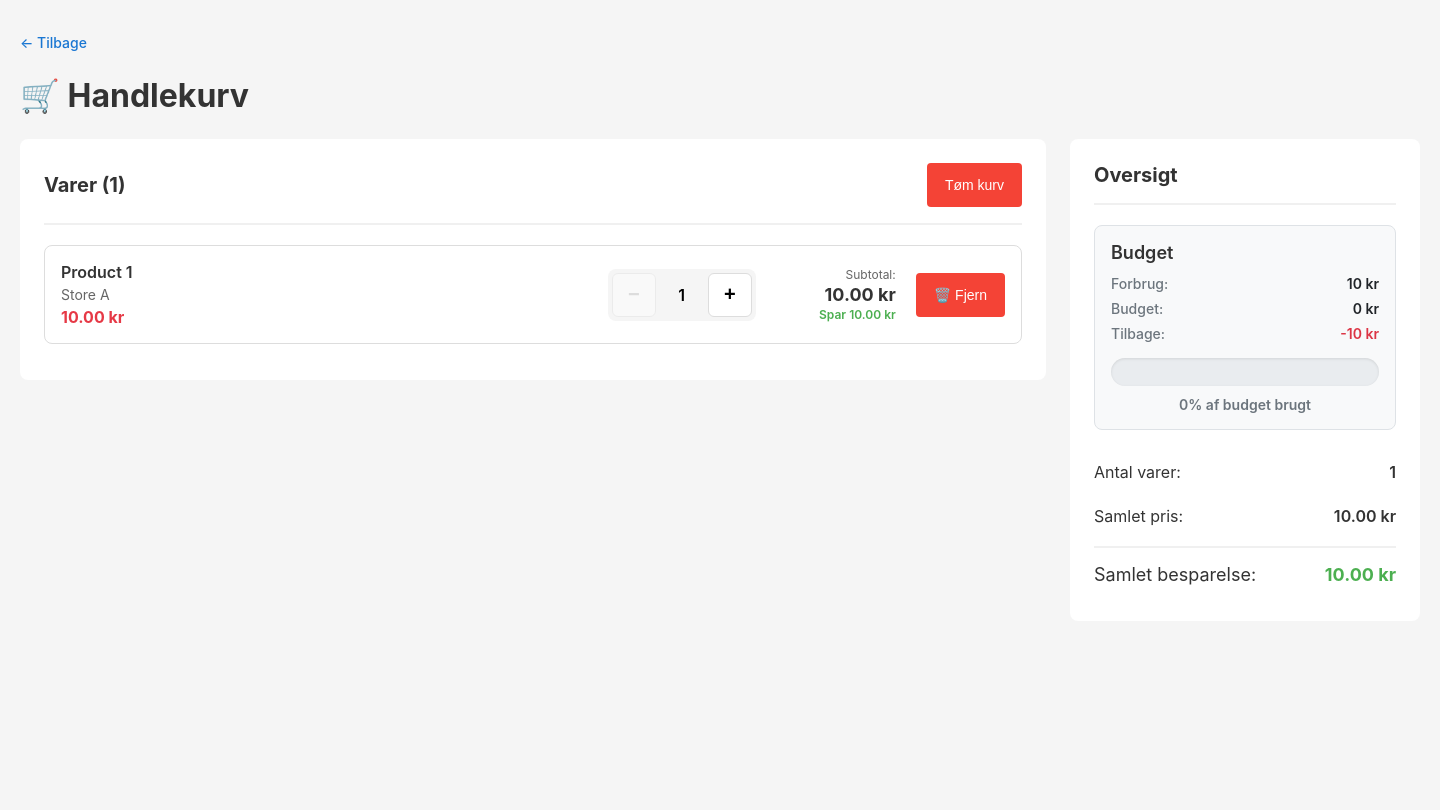
Scenario: Handlekurv › closes dialog when "Annuller" clicked
The image size is (1440, 810).
Click the button "Tøm kurv".
click(974, 185)  # box [927,163,1022,207]
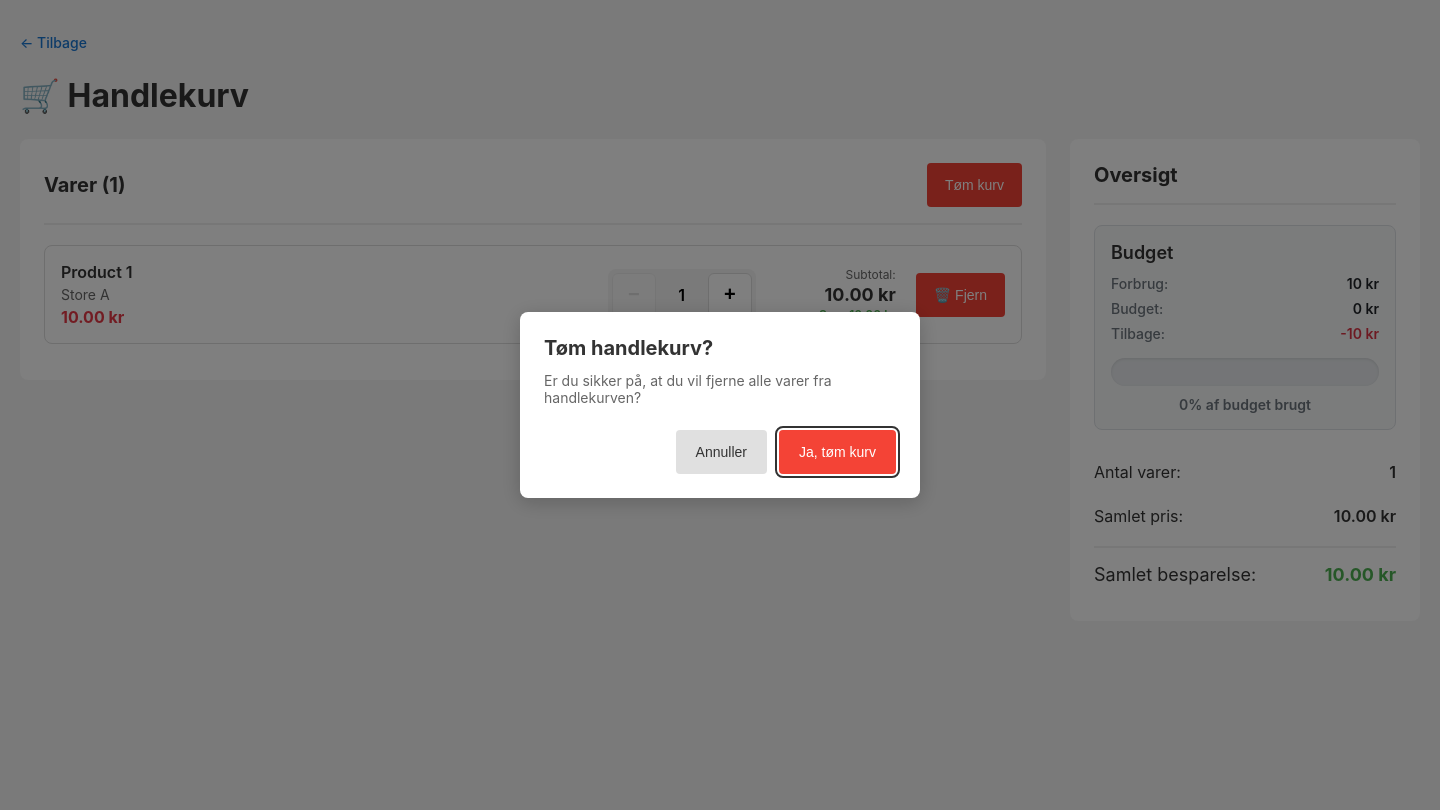
Click the button "Annuller".
click(721, 452)  # box [676,430,767,474]
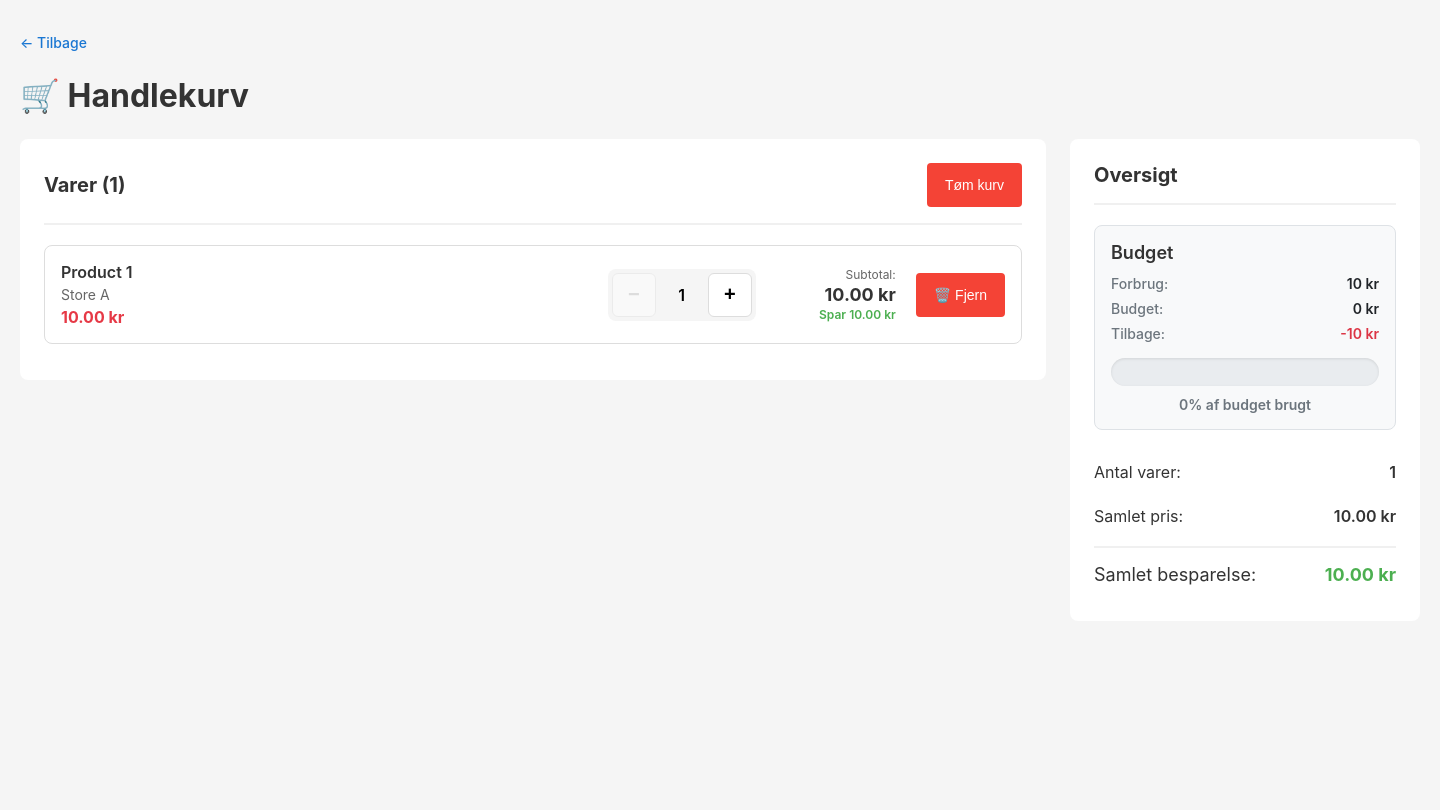
Expected: the heading "Tøm handlekurv?" is gone
